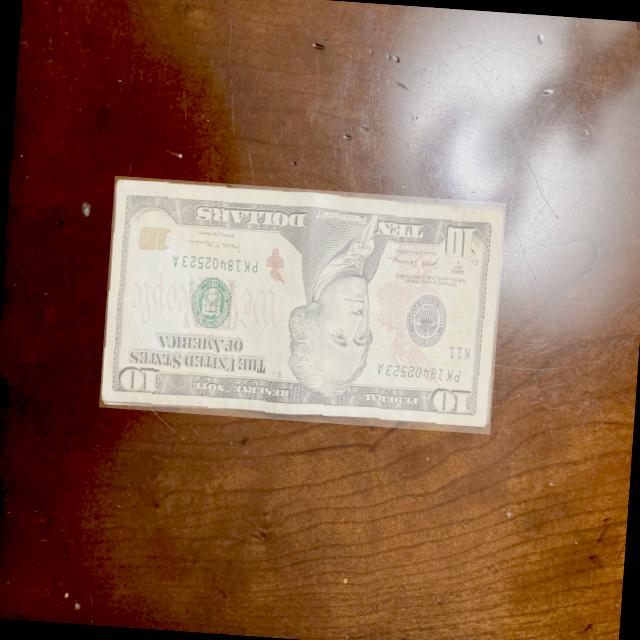ten: (99, 176, 506, 434)
